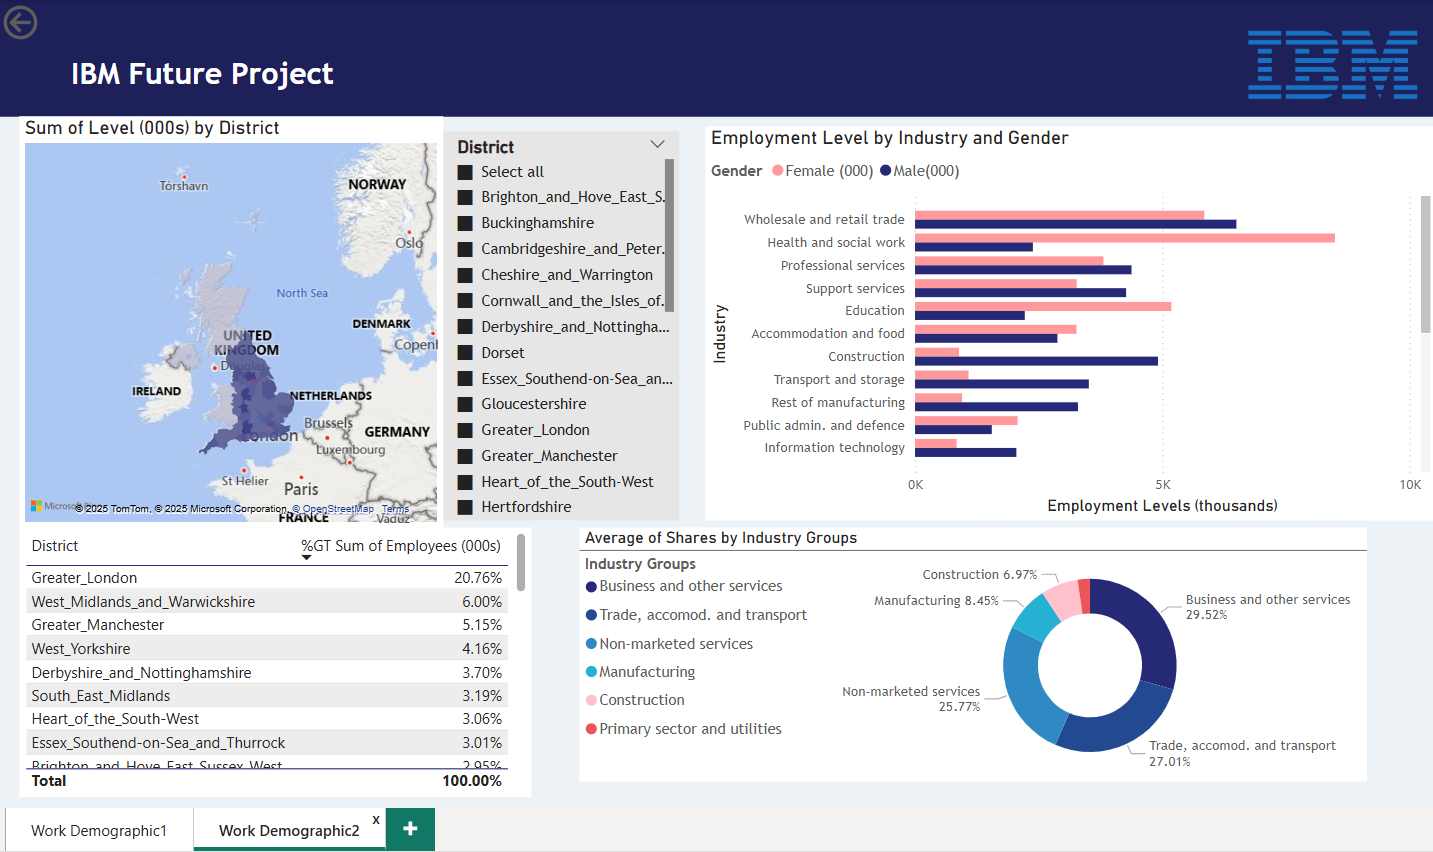

What the dashboard file says about the page in this screenshot:
{"tool":"powerbi","page":{"name":"Work Demographic2","canvas":[1280,720],"ordinal":1},"visuals":[{"type":"shape","box":[0,0,1280,103.8],"z":0},{"type":"actionButton","box":[0,0,100,40],"z":1000},{"type":"image","box":[1108.7,12.1,160.5,91.7],"z":2000},{"type":"textbox","box":[60.3,45.8,457.2,70],"z":3000},{"type":"donutChart","fields":{"Category":["Ind_T1_LSIPs.Industry Groups","Unique_Districts.District"],"Y":["Avg(Ind_T1_LSIPs.Shares (%))"]},"box":[517.3,469.8,701.9,226.7],"z":4000},{"type":"slicer","fields":{"Values":["Unique_Districts.District"]},"box":[396.4,116.8,210.4,346.2],"z":5000},{"type":"clusteredBarChart","title":"Employment Level by Industry and Gender","fields":{"Category":["Ind_Occ_T1_LSIPs.Industry"],"Y":["Sum(Ind_Occ_T1_LSIPs.Shares (%))"],"Series":["Ind_Occ_T1_LSIPs.Gender"]},"box":[629.8,112.2,650.3,351.1],"z":6000},{"type":"tableEx","fields":{"Values":["Basic_T1 (2).District","Sum(Basic_T1 (2).Employees (000s))"]},"box":[18.8,470,456.2,240],"z":7000},{"type":"filledMap","fields":{"Category":["Occ_T5_LSIPs (2).District"]},"box":[19,103.2,377.4,366.6],"z":8000}]}

Visuals, with their boxes on the page's 1280x720 design canvas (x1, y1, x2, y2). These are canvas units, not pixel positions in the 1433x852 screenshot, which may show the page scaled, cropped or inside an application window:
shape: (left=0, top=0, right=1280, bottom=104)
actionButton: (left=0, top=0, right=100, bottom=40)
image: (left=1109, top=12, right=1269, bottom=104)
textbox: (left=60, top=46, right=518, bottom=116)
donutChart - Ind_T1_LSIPs.Industry Groups x Unique_Districts.District: (left=517, top=470, right=1219, bottom=696)
slicer - Unique_Districts.District: (left=396, top=117, right=607, bottom=463)
"Employment Level by Industry and Gender" clusteredBarChart: (left=630, top=112, right=1280, bottom=463)
tableEx - Basic_T1 (2).District x Sum(Basic_T1 (2).Employees (000s)): (left=19, top=470, right=475, bottom=710)
filledMap - Occ_T5_LSIPs (2).District: (left=19, top=103, right=396, bottom=470)
